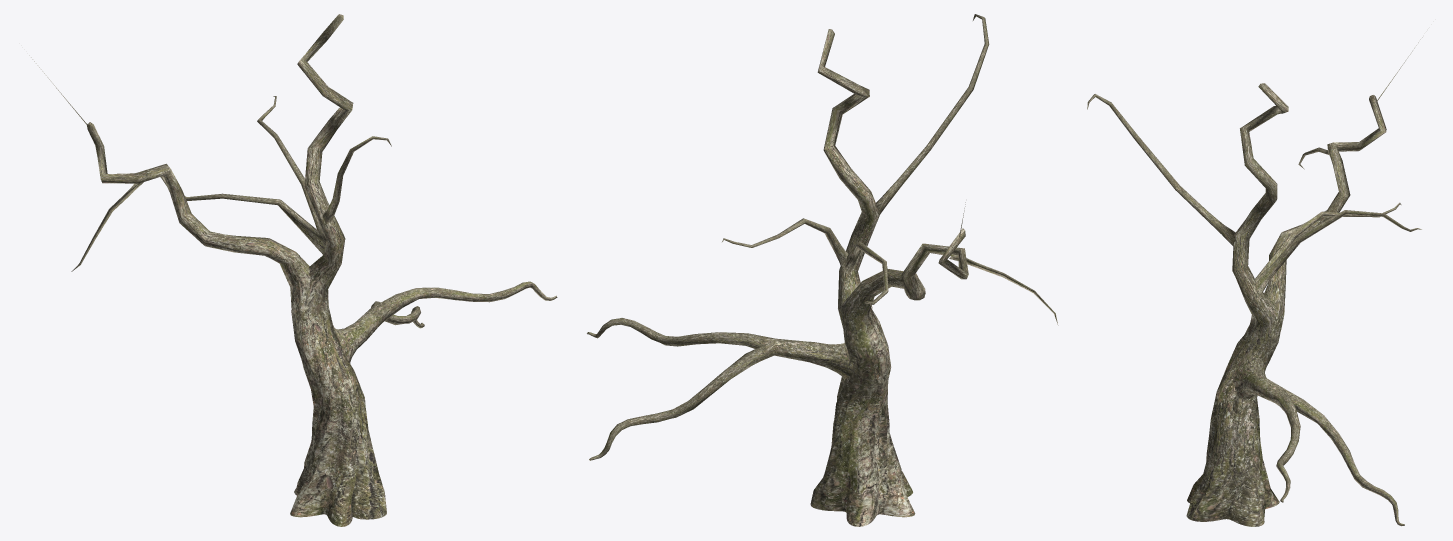
The model's file is trunk3.obj.
The picture shows the model from 3 angles, left to right: view 1: azimuth 30°, elevation 25°; view 2: azimuth 150°, elevation 25°; view 3: azimuth 270°, elevation 25°; orthographic projection. The views are drawn at different scales.
Parts seen in each view (by area): view 1: tree; view 2: tree; view 3: tree.
Boxes of the visible parts, x1,y1,x2,y2 form: tree: (29, 14, 557, 526); tree: (587, 14, 1058, 526); tree: (1087, 37, 1422, 526).
Bounding box in the file's own units: 515 × 490 × 360.
1 material, 1 textured.
